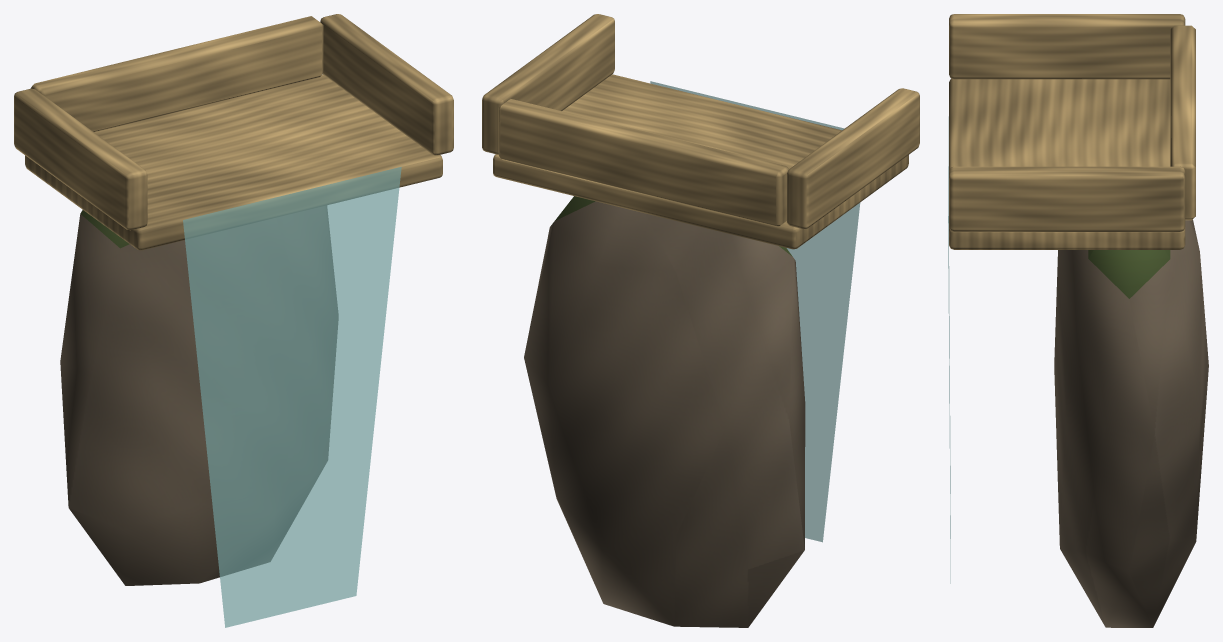
File: Furn_Spa_Spout.fbx
3 renders of one model, left to right at view 1: azimuth 30°, elevation 25°; view 2: azimuth 150°, elevation 25°; view 3: azimuth 270°, elevation 25°, orthographic. The views are drawn at different scales.
Parts seen in each view (by area): view 1: Furn_Spa_Spout, Water; view 2: Furn_Spa_Spout, Water; view 3: Furn_Spa_Spout, Water.
Boxes of the visible parts, left/top/right/bottom form: Furn_Spa_Spout: left=14, top=14, right=453, bottom=585; Water: left=183, top=166, right=401, bottom=627; Furn_Spa_Spout: left=482, top=14, right=919, bottom=627; Water: left=650, top=81, right=860, bottom=542; Furn_Spa_Spout: left=949, top=14, right=1208, bottom=627; Water: left=948, top=116, right=950, bottom=583.
Bounding box in the file's own units: 0.9 × 1.3 × 0.607.
3 materials, 2 textured.
